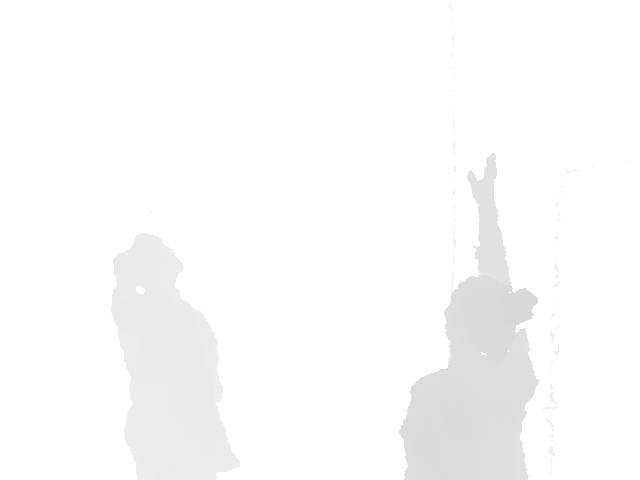hand: (466, 153, 499, 208)
head: (443, 276, 519, 364), (112, 232, 183, 299)
person: (398, 153, 540, 480), (112, 232, 244, 480)
